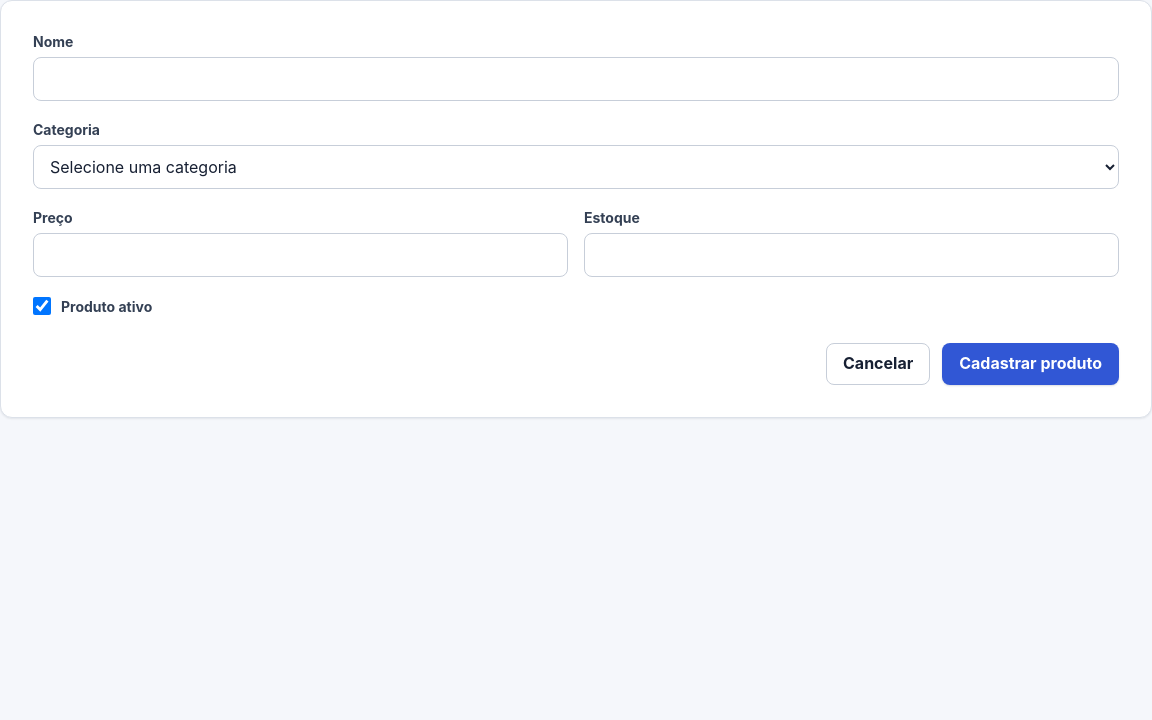
Scenario: ProductForm › shows validation messages next to all required fields
Click the button "Cadastrar produto".
click(1031, 364)  # box [942,343,1119,385]
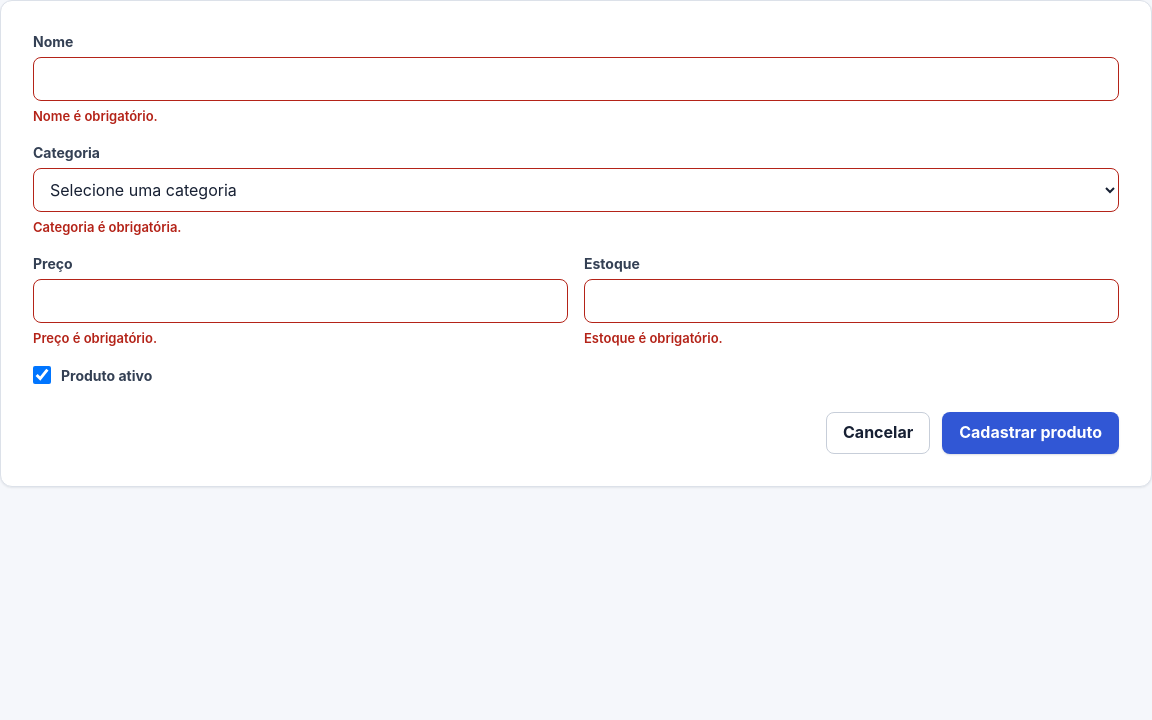
Check: the text "Nome é obrigatório." is shown, box [33,108,158,124]
Check: the text "Categoria é obrigatória." is shown, box [33,219,182,235]
Check: the text "Preço é obrigatório." is shown, box [33,330,157,346]
